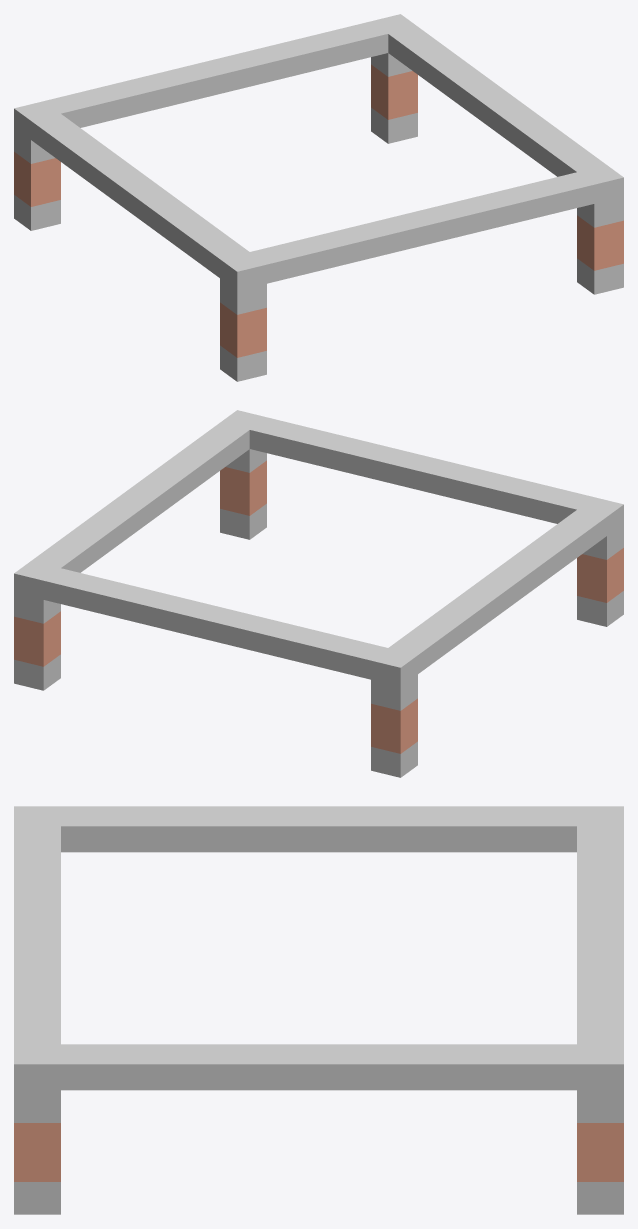
The model's file is frameLow.glb.
3 views of the same model, one above another, from view 1: azimuth 30°, elevation 25°; view 2: azimuth 150°, elevation 25°; view 3: azimuth 270°, elevation 25° (orthographic). The views are drawn at different scales.
Visible parts, largest first — view 1: frameLow; view 2: frameLow; view 3: frameLow.
Part boxes in pixels (x1,y1,x2,y2): frameLow: [14, 14, 623, 381]; frameLow: [14, 410, 623, 777]; frameLow: [14, 806, 623, 1214].
Bounding box in the file's own units: 8.45 × 2.3 × 8.45.
